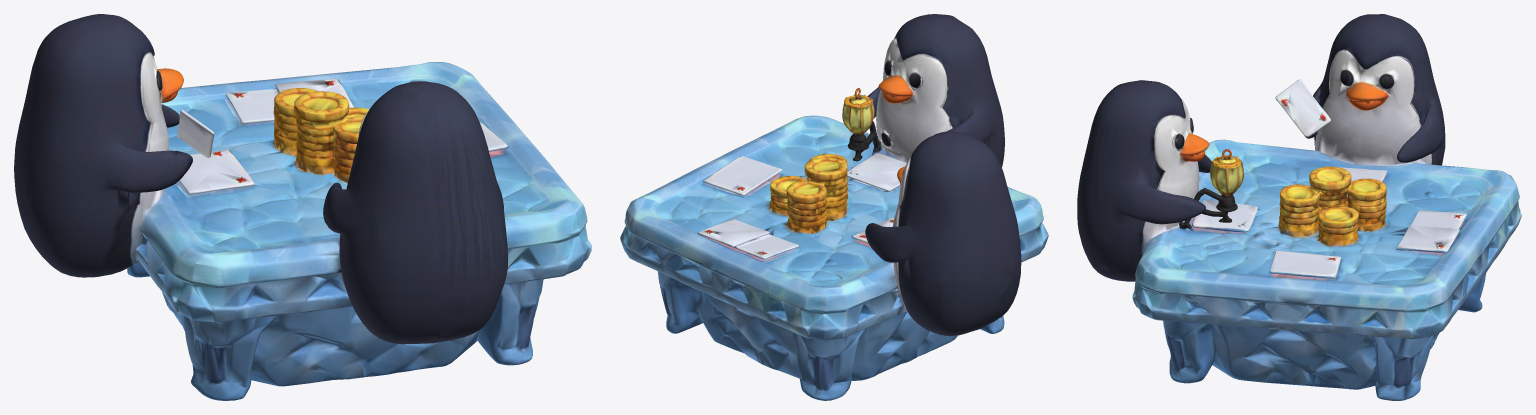
The model's file is pv-blackjack-diet.glb.
The picture shows the model from 3 angles, left to right: view 1: azimuth 30°, elevation 25°; view 2: azimuth 150°, elevation 25°; view 3: azimuth 270°, elevation 25°; orthographic projection. The views are drawn at different scales.
Parts seen in each view (by area): view 1: tripo_node_53080cda-350f-44e4-8a72-b4c47bf55378; view 2: tripo_node_53080cda-350f-44e4-8a72-b4c47bf55378; view 3: tripo_node_53080cda-350f-44e4-8a72-b4c47bf55378.
Boxes of the visible parts, x1,y1,x2,y2 form: tripo_node_53080cda-350f-44e4-8a72-b4c47bf55378: (14,14,591,400); tripo_node_53080cda-350f-44e4-8a72-b4c47bf55378: (620,14,1048,400); tripo_node_53080cda-350f-44e4-8a72-b4c47bf55378: (1077,14,1521,400).
Size of the model in its own units: 0.9391 by 0.6081 by 0.9785.
1 material, 1 textured.
